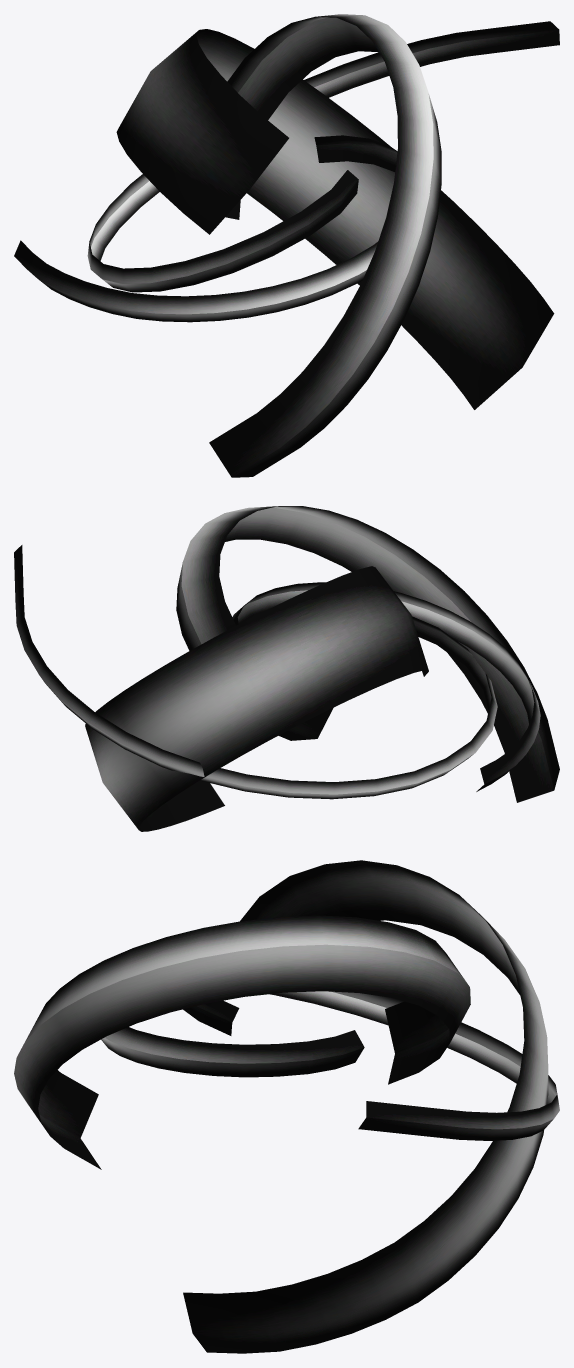
Rendered from vfx_kurp_0724.dae.
The picture shows the model from 3 angles, top to bottom: view 1: azimuth 30°, elevation 25°; view 2: azimuth 150°, elevation 25°; view 3: azimuth 270°, elevation 25°; orthographic projection. The views are drawn at different scales.
Parts seen in each view (by area): view 1: vfx_kurp_0724; view 2: vfx_kurp_0724; view 3: vfx_kurp_0724.
Part boxes in pixels (x1,y1,x2,y2): vfx_kurp_0724: (14, 14, 559, 477); vfx_kurp_0724: (14, 506, 559, 831); vfx_kurp_0724: (14, 860, 559, 1353).
Size of the model in its own units: 10.33 by 8.33 by 6.75.
Materials: 1 (1 with a texture image).
